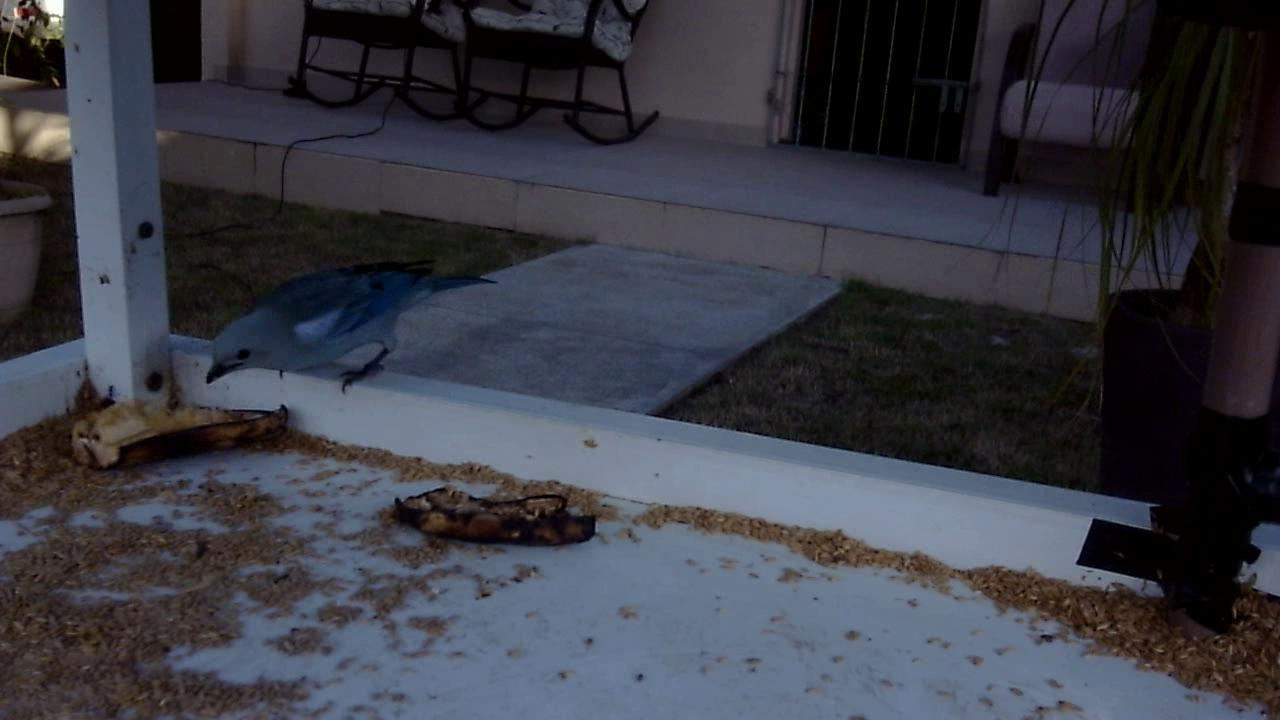sanhaco_da_amazonia: (198, 247, 504, 408)
